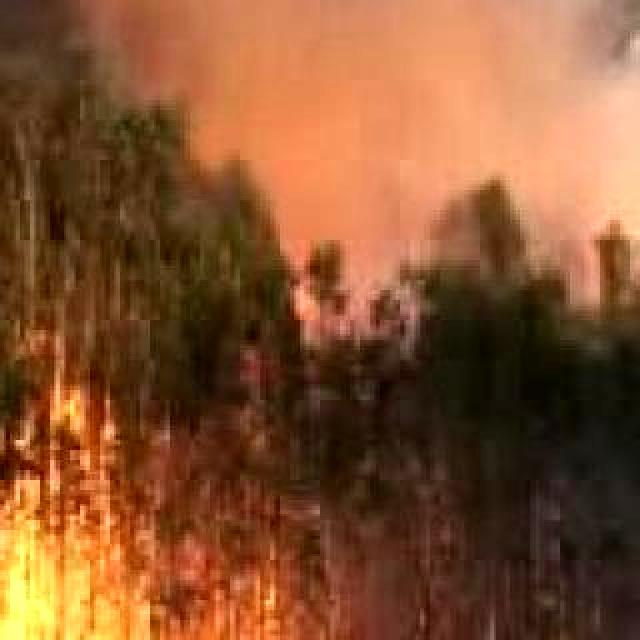fire: (0, 380, 316, 640)
